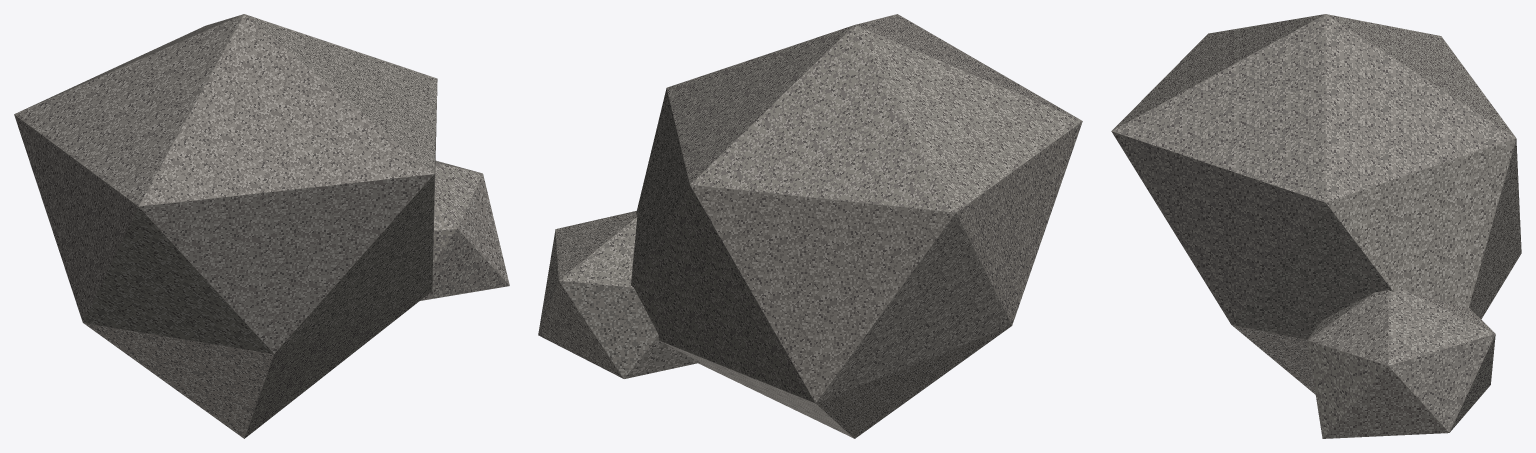
File: rock_boulder_b.glb
3 renders of one model, left to right at view 1: azimuth 30°, elevation 25°; view 2: azimuth 150°, elevation 25°; view 3: azimuth 270°, elevation 25°, orthographic. The views are drawn at different scales.
Parts seen in each view (by area): view 1: Body.012; view 2: Body.012; view 3: Body.012.
Boxes of the visible parts, box(x1,y1,x2,y2) form: Body.012: box(14, 14, 509, 438); Body.012: box(538, 14, 1082, 438); Body.012: box(1111, 14, 1521, 438).
Bounding box in the file's own units: 2.24 × 2.05 × 1.96.
Materials: 1 (1 with a texture image).
